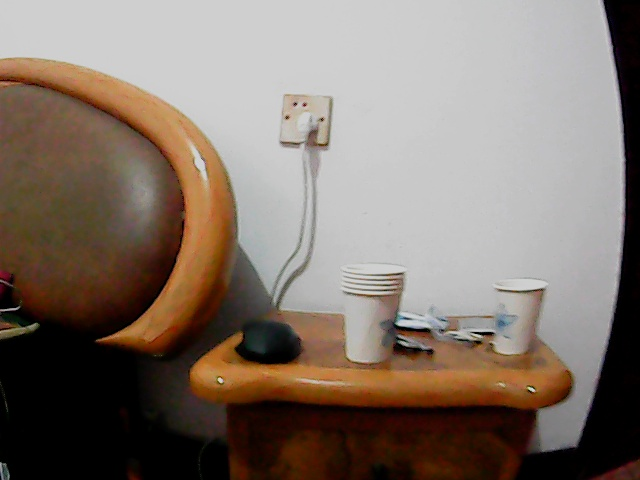cup: (339, 262, 405, 365)
mouse: (235, 318, 308, 368)
